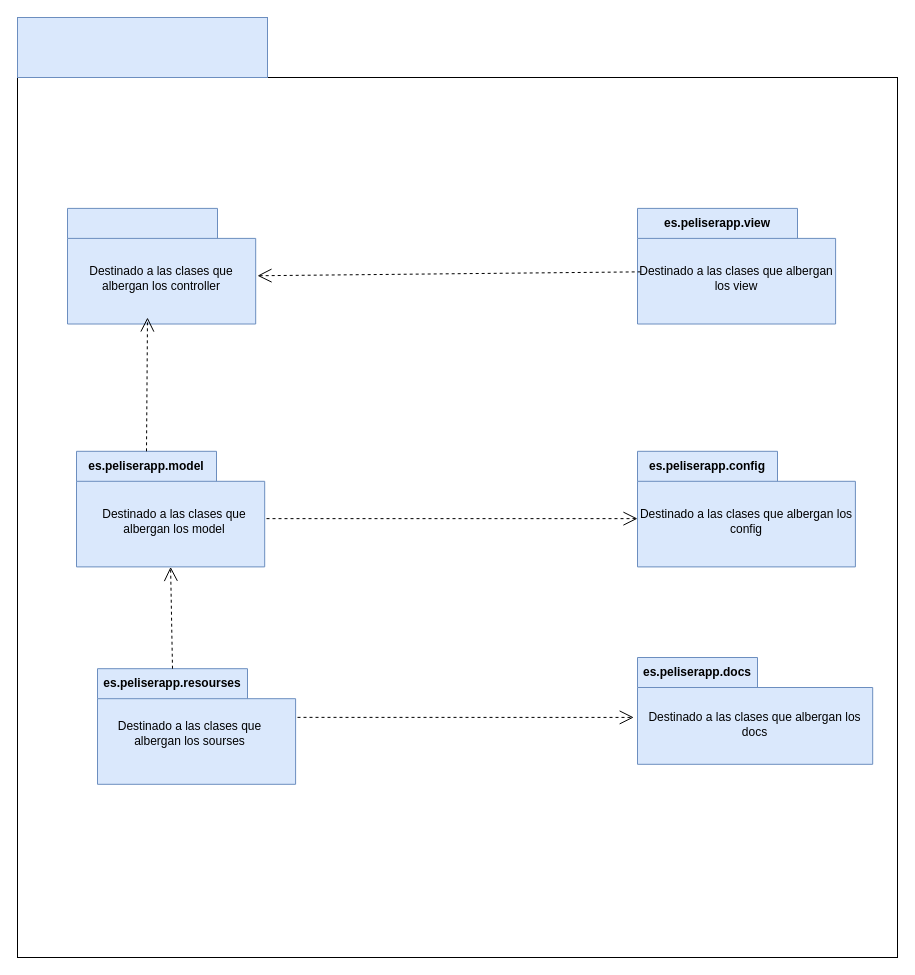
Some shapes in this 915 by 975 pixel diagram are drawn without their labels. Here are the shapes that lost their labels. From the top down, the box of each, then its label:
(16, 16, 268, 78): es.peliserapp
(66, 207, 256, 324): es.peliserapp.controller
